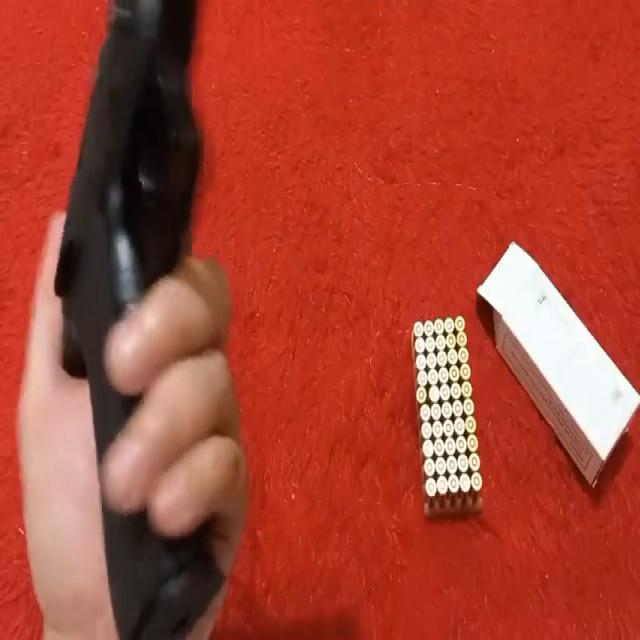handgun: (44, 0, 235, 640)
